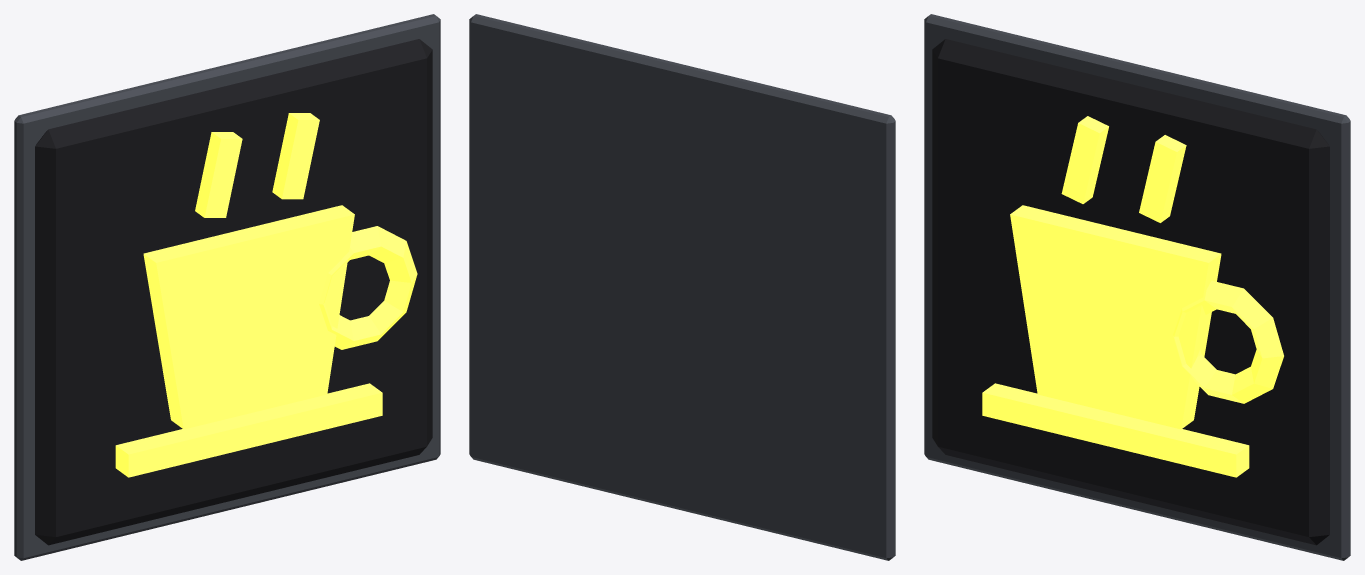
File: Neon_Cup.glb
3 views of the same model, side by side, from view 1: azimuth 30°, elevation 25°; view 2: azimuth 150°, elevation 25°; view 3: azimuth 330°, elevation 25° (orthographic).
Visible parts, largest first — view 1: Neon_Cup; view 2: Neon_Cup; view 3: Neon_Cup.
Boxes of the visible parts, left/top/right/bottom form: Neon_Cup: left=14, top=14, right=440, bottom=560; Neon_Cup: left=469, top=14, right=895, bottom=560; Neon_Cup: left=924, top=14, right=1350, bottom=560.
Size of the model in its own units: 0.96 by 0.96 by 0.1313.
Materials: 1 (1 with a texture image).
